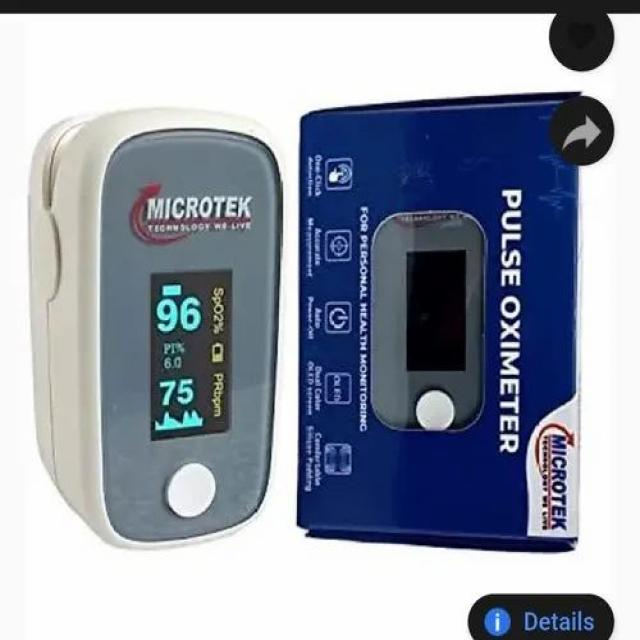oximeter: (5, 71, 289, 546)
